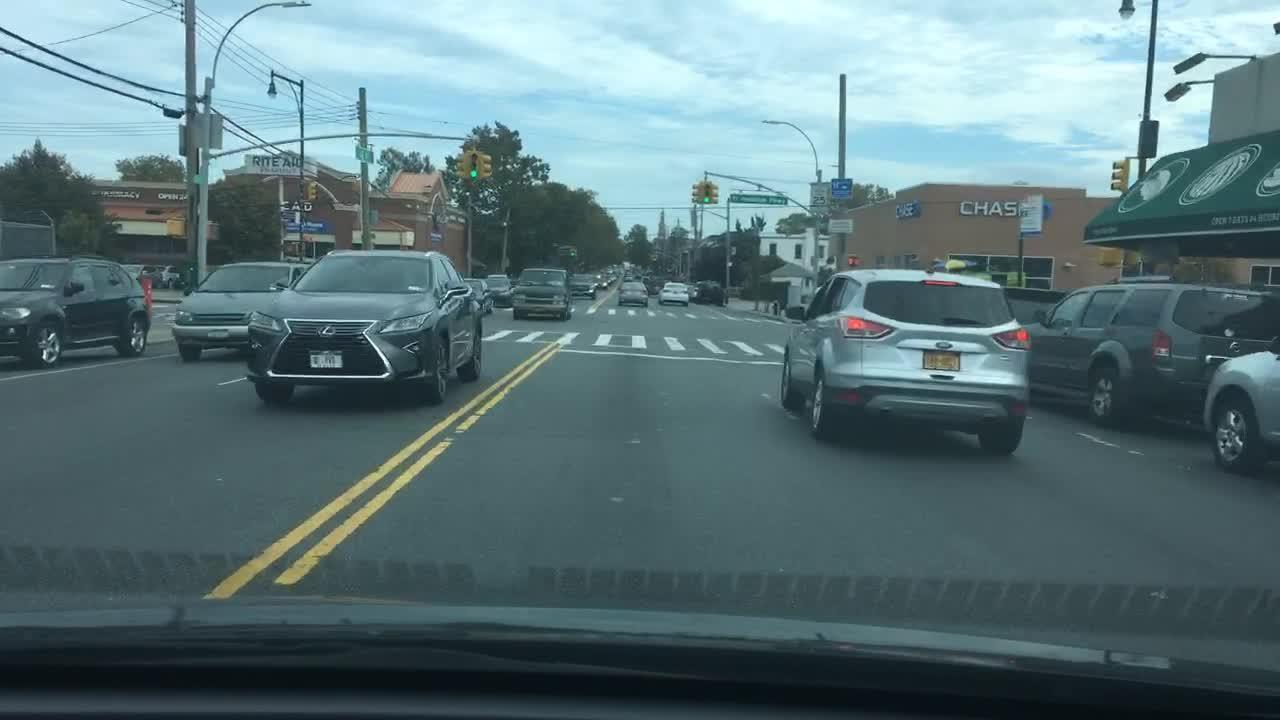Honda: (932, 336, 956, 354)
lexus: (317, 322, 339, 343)
